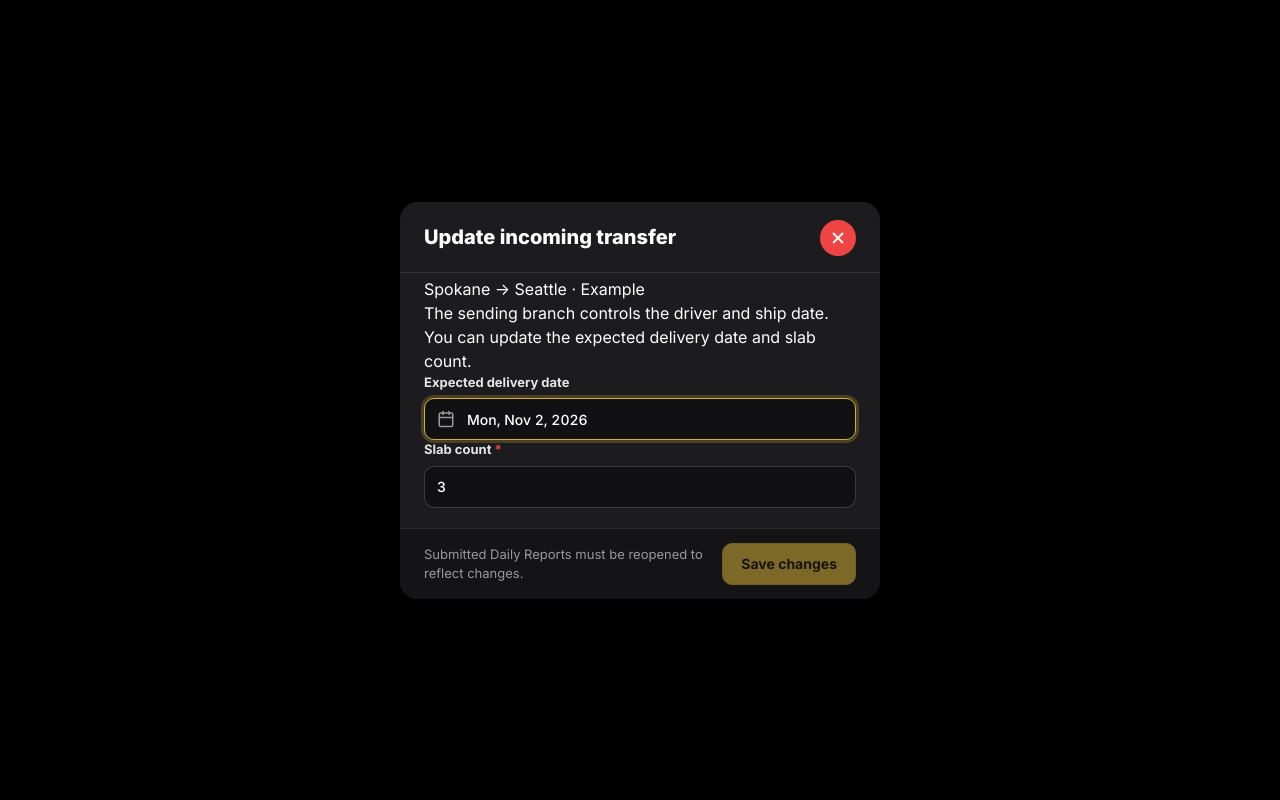
receiving transfer form › keeps the form open on a server error
The width and height of the screenshot is (1280, 800).
Replace the text in the field labelled "Slab count*" with "5" at {"x": 640, "y": 486}, box [424, 466, 856, 508]
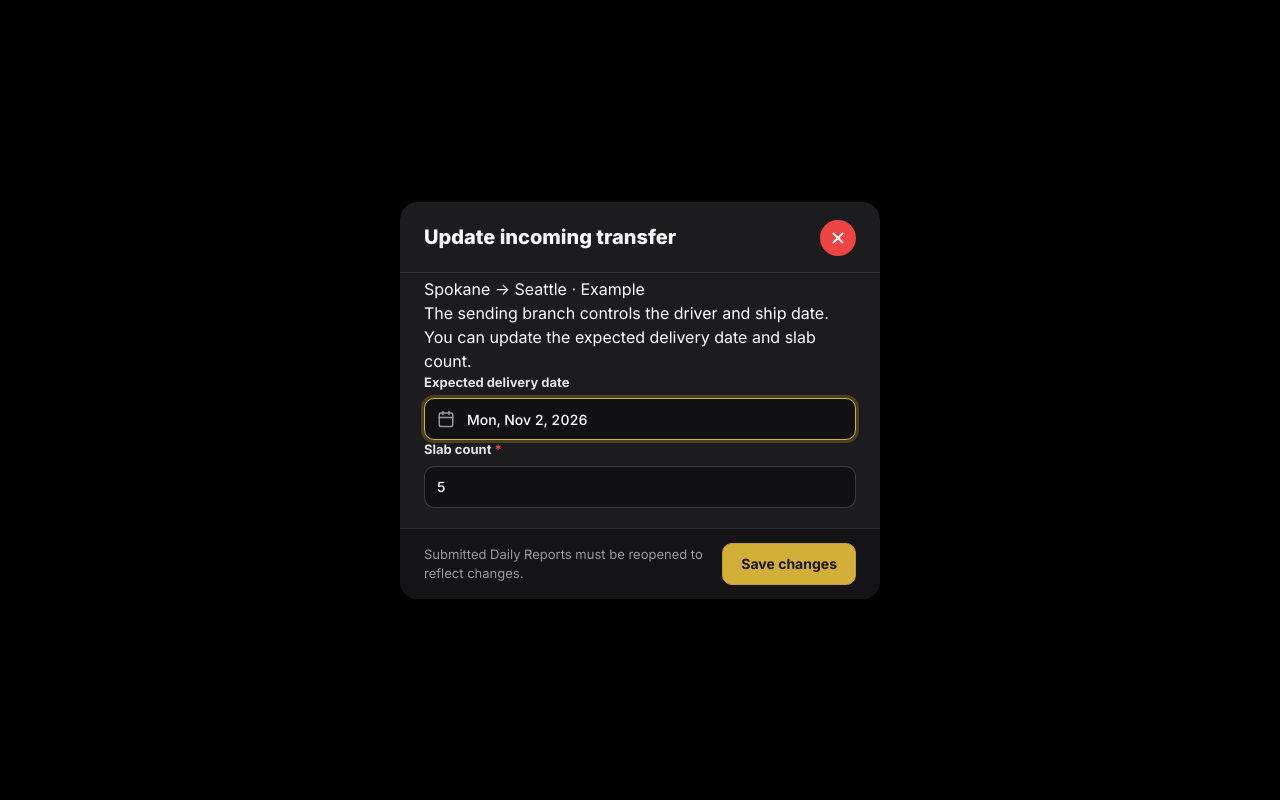
Click the button "Save changes" at {"x": 789, "y": 564}, box [722, 542, 856, 584]
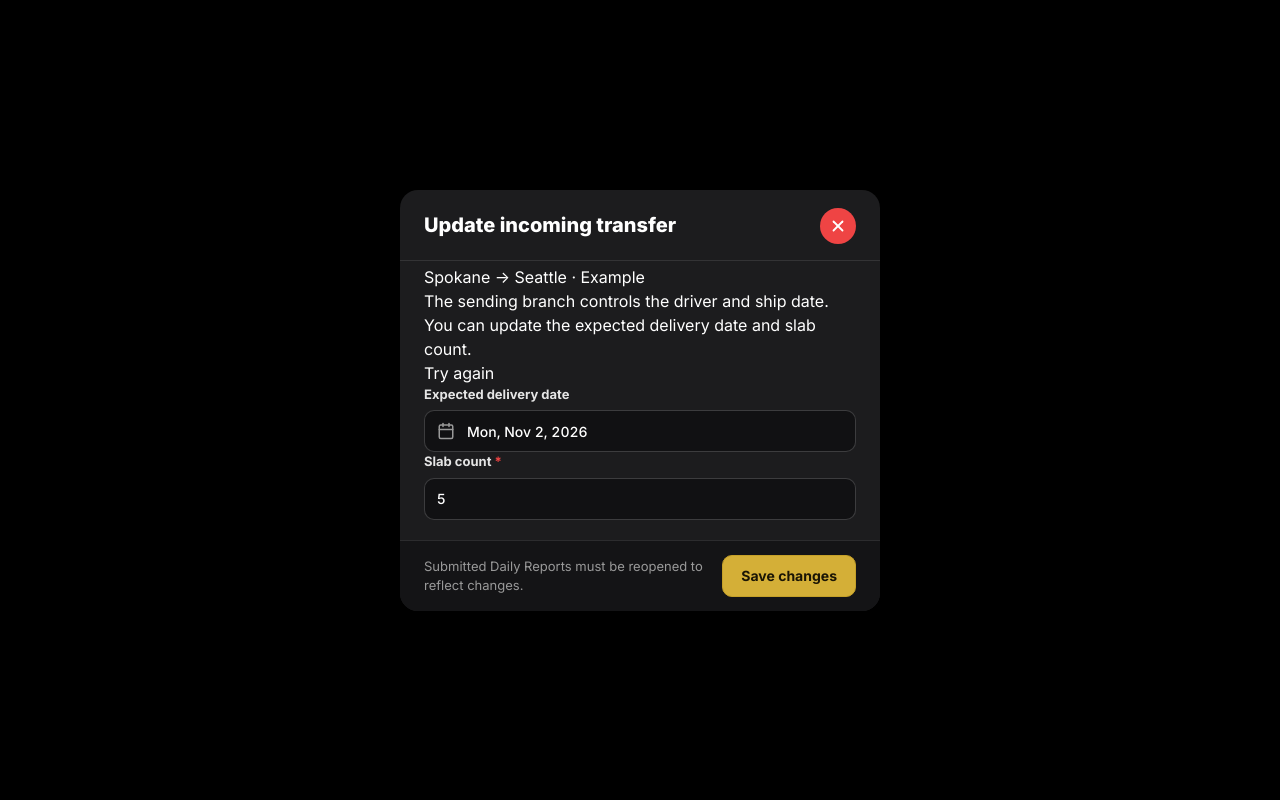
Expected: the message reads "Try again", [424, 362, 494, 382]
